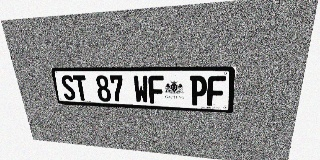7: (109, 75, 125, 102)
8: (95, 75, 112, 102)
F: (207, 76, 226, 107), (148, 75, 164, 104)
P: (190, 76, 207, 106)
S: (60, 75, 77, 100)
T: (72, 75, 89, 101)
W: (133, 75, 149, 103)
